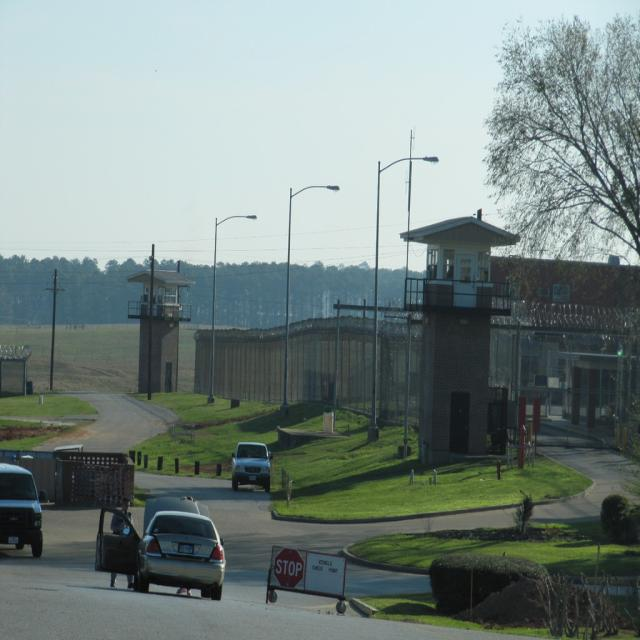car: (231, 443, 271, 489)
